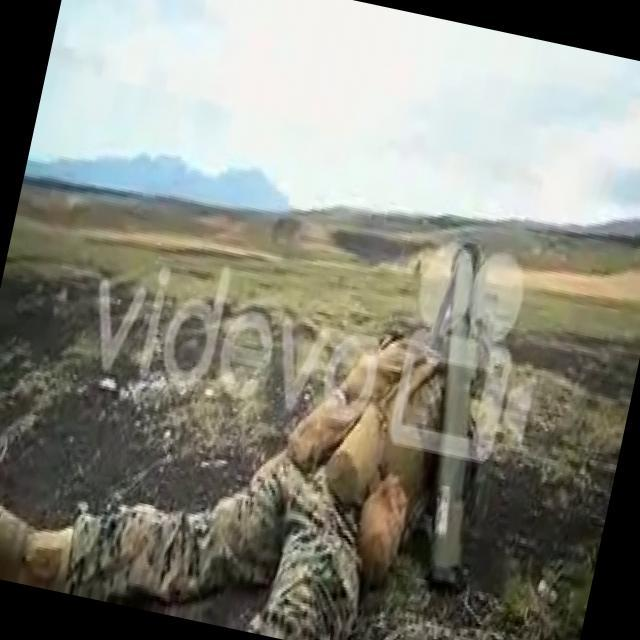rocket: (388, 243, 526, 581)
